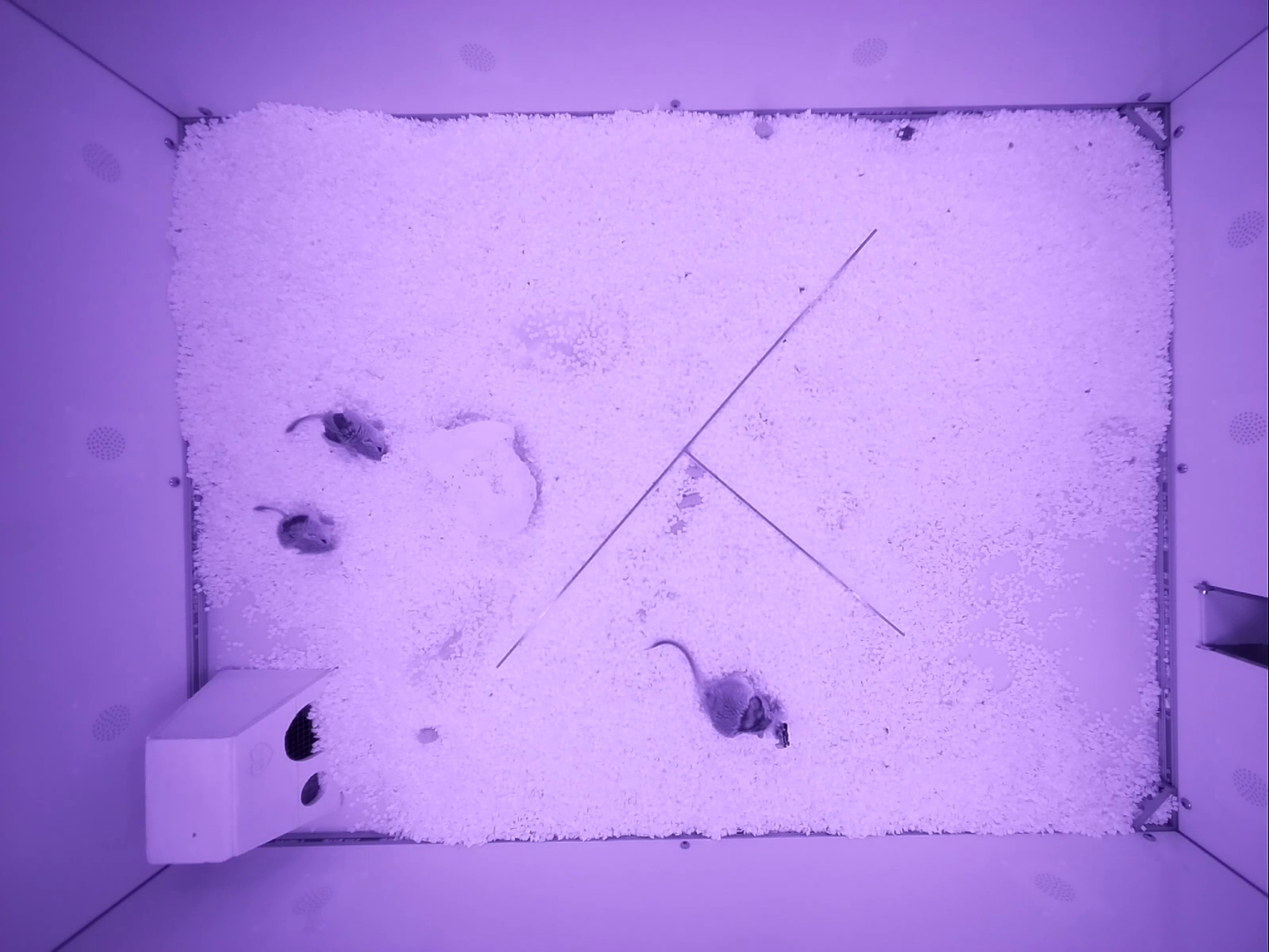adult_back: (651, 639, 778, 736), (286, 409, 387, 460), (255, 505, 336, 553)
